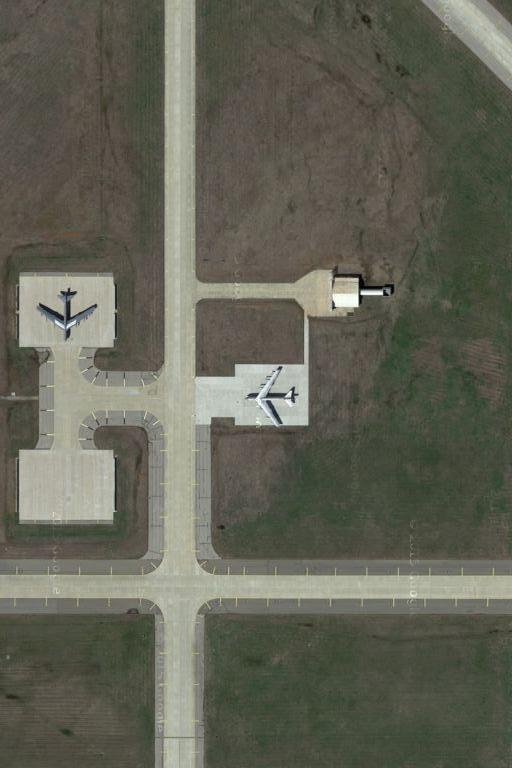B-52: (240, 364, 301, 430), (35, 286, 98, 343)
